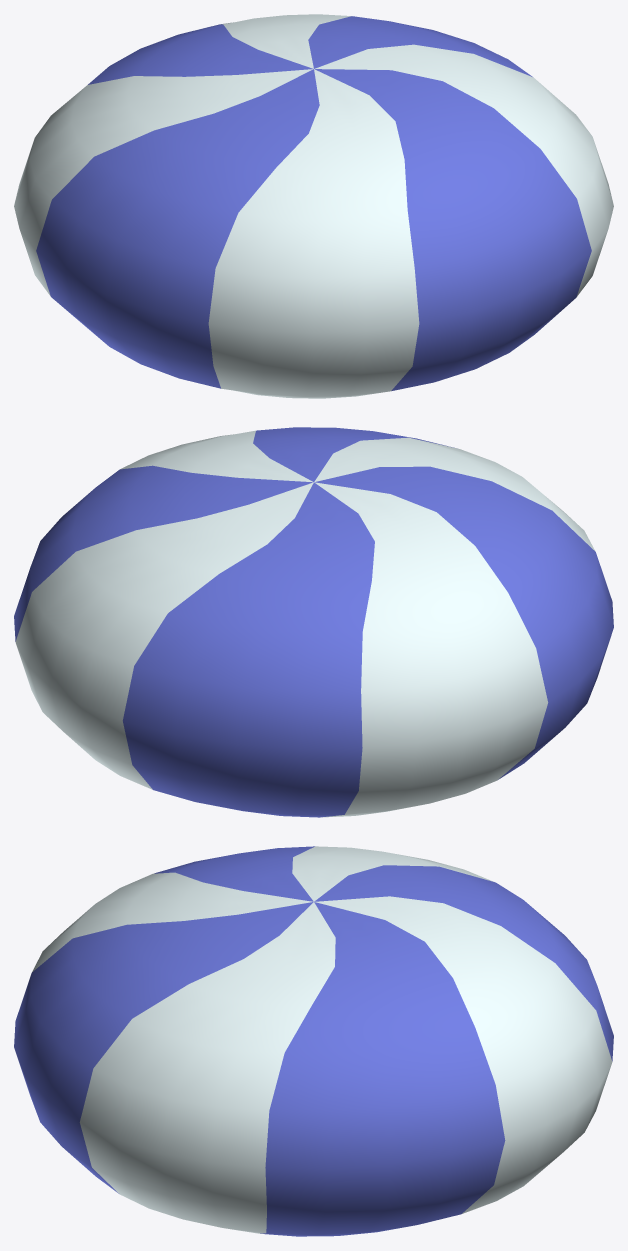
File: Mint_A_03.fbx
3 renders of one model, top to bottom at view 1: azimuth 30°, elevation 25°; view 2: azimuth 150°, elevation 25°; view 3: azimuth 270°, elevation 25°, orthographic.
Visible parts, largest first — view 1: Mint_A_03_LOD0; view 2: Mint_A_03_LOD0; view 3: Mint_A_03_LOD0.
Boxes of the visible parts, x1,y1,x2,y2 form: Mint_A_03_LOD0: (14,14,613,398); Mint_A_03_LOD0: (14,427,613,817); Mint_A_03_LOD0: (14,846,613,1236).
Size of what is drawn, in the model's own units: 420 by 216 by 420.
